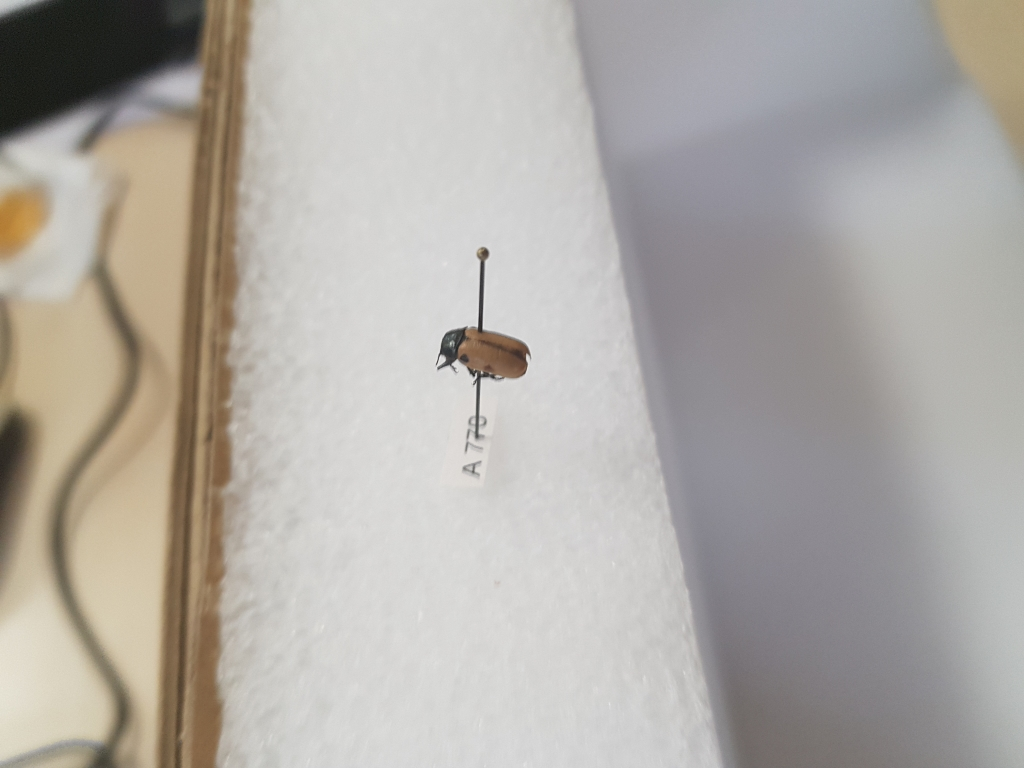Labidostomis_propinqua: (438, 323, 535, 384)
